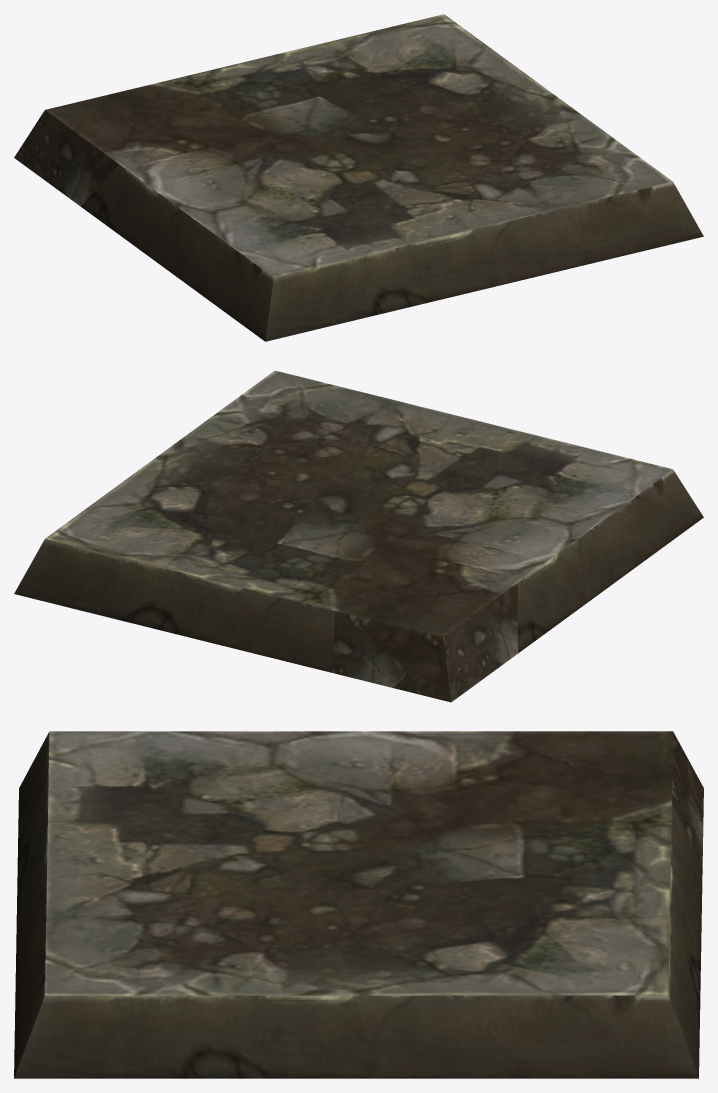
The model's file is F_dizhuan004.fbx.
3 views of the same model, one above another, from view 1: azimuth 30°, elevation 25°; view 2: azimuth 150°, elevation 25°; view 3: azimuth 270°, elevation 25° (orthographic). The views are drawn at different scales.
Visible parts, largest first — view 1: F_dizhuan004; view 2: F_dizhuan004; view 3: F_dizhuan004.
Part boxes in pixels (x1,y1,x2,y2): F_dizhuan004: (14, 14, 703, 341); F_dizhuan004: (14, 370, 703, 702); F_dizhuan004: (14, 731, 703, 1078).
Bounding box in the file's own units: 118 × 13.29 × 119.
